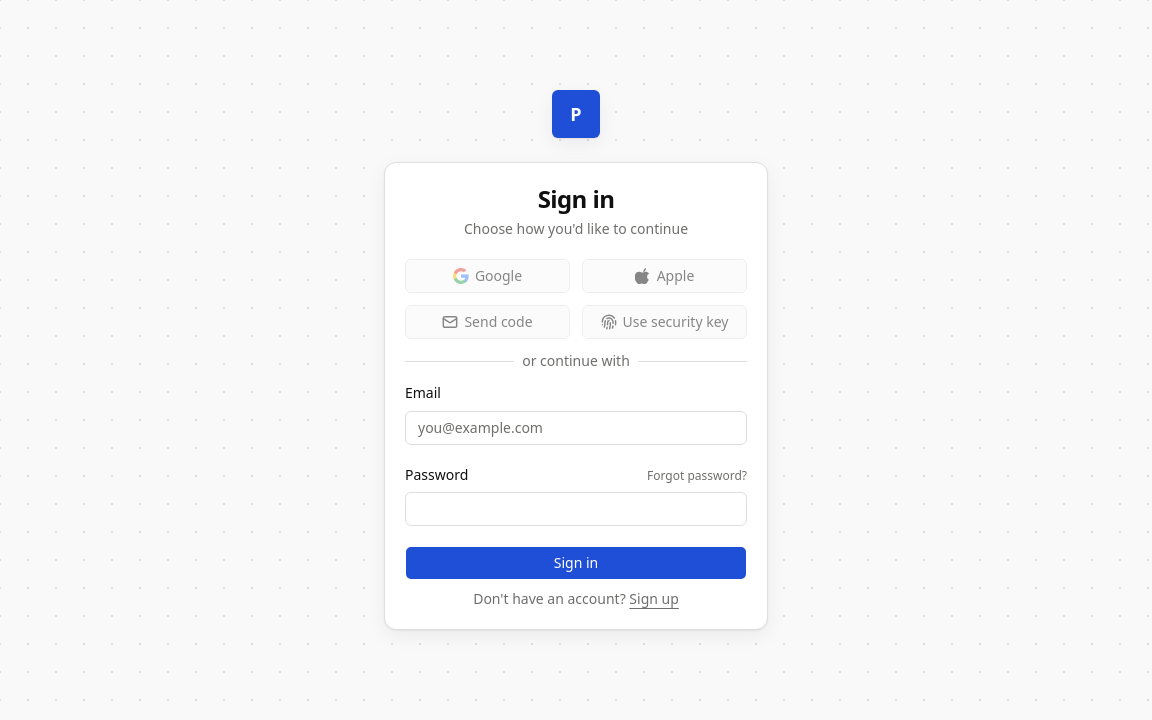
Test: LoginPage › shows the backend error message on a failed login
The width and height of the screenshot is (1152, 720).
In the field labelled "Email": (576, 428) [405, 410, 747, 444], type "admin@example.com"
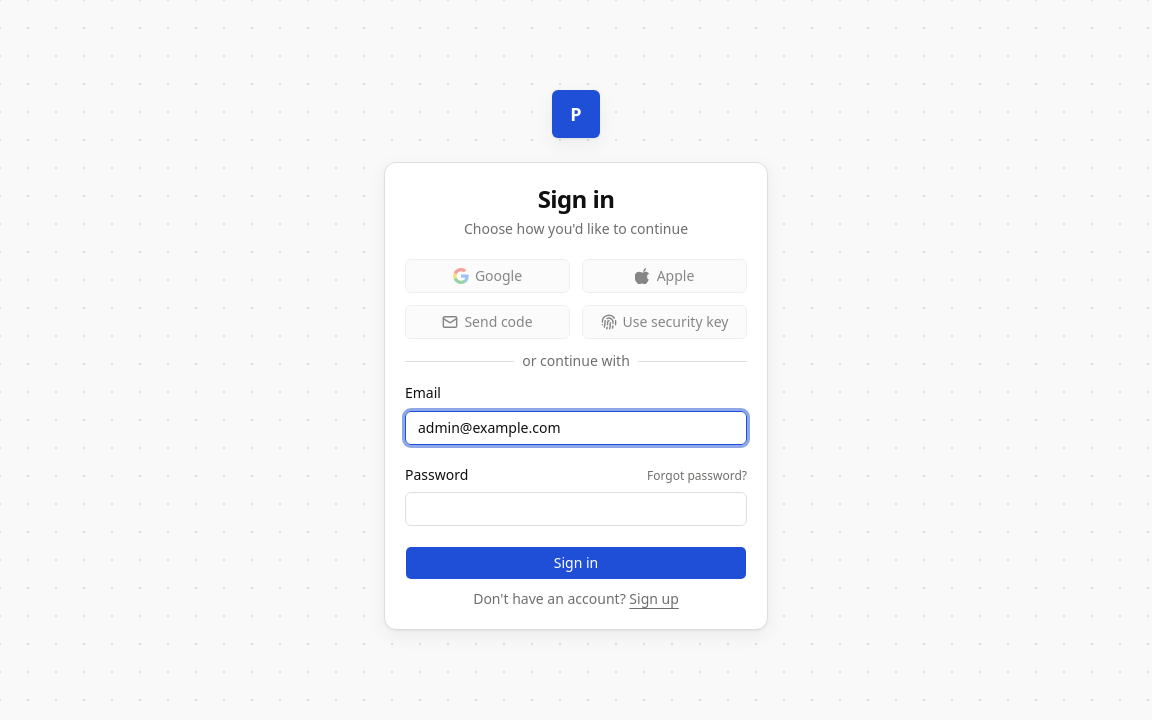
In the password field labelled "Password": (576, 509) [405, 492, 747, 526], type "wrong-password"
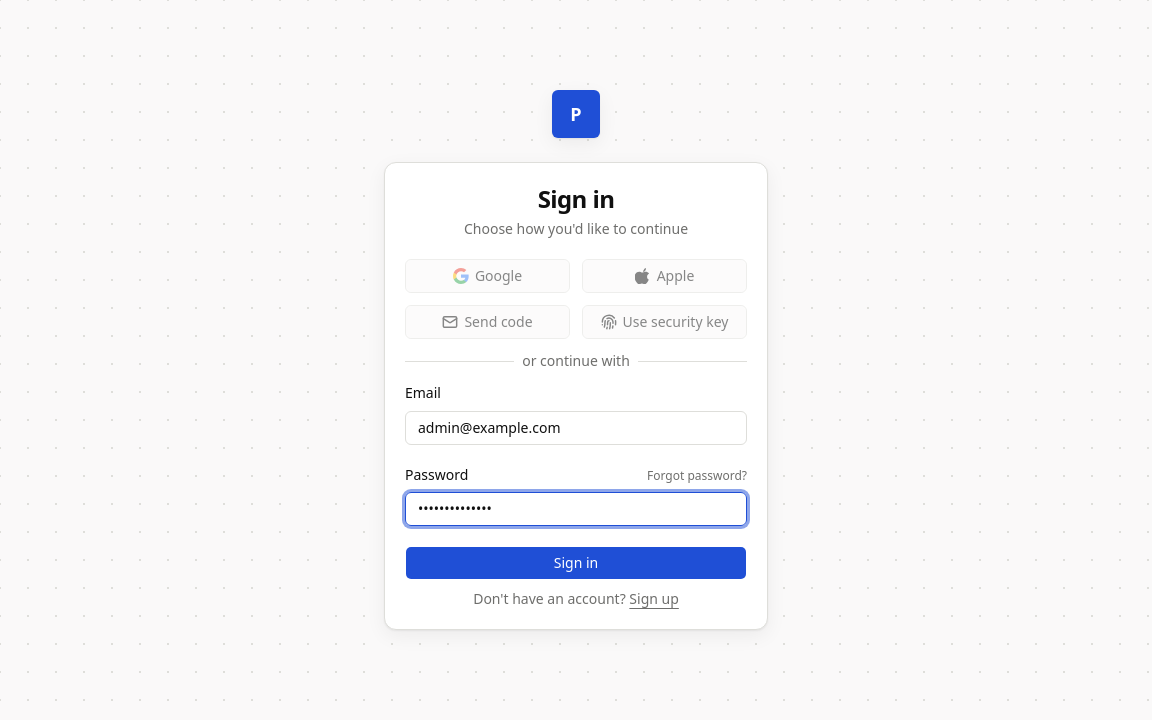
Click the button "Sign in": (576, 563) [405, 546, 747, 580]
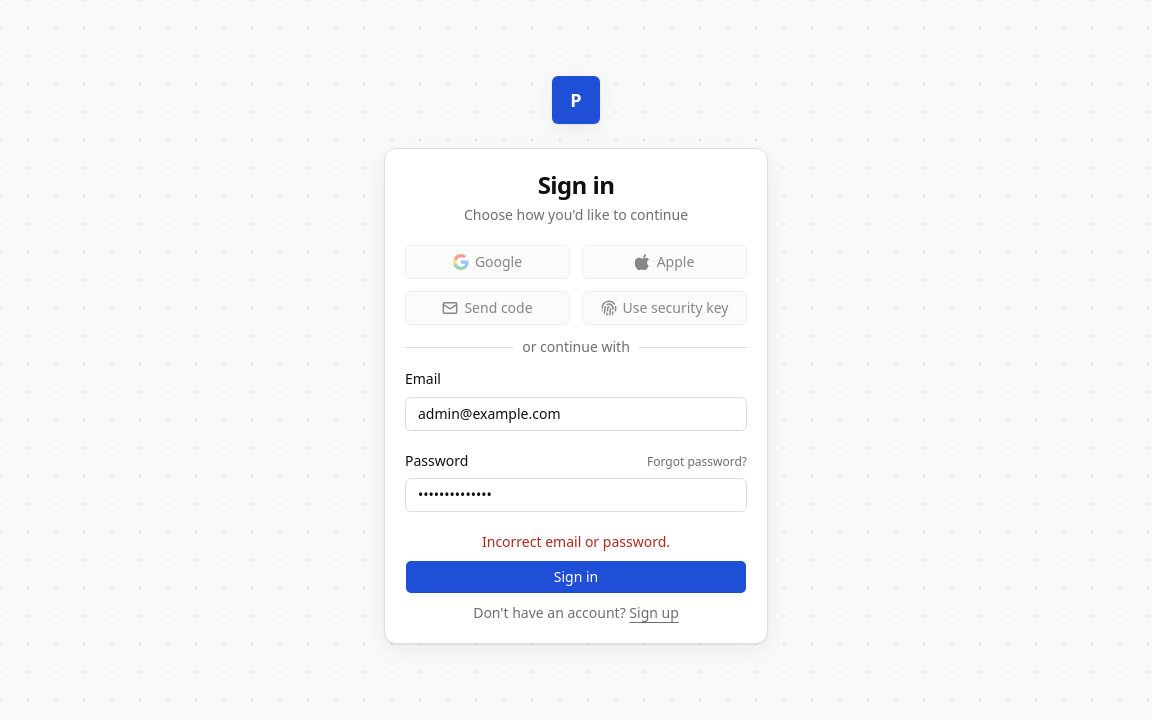
Expected: the text "Incorrect email or password." is shown, [482, 532, 670, 551]
